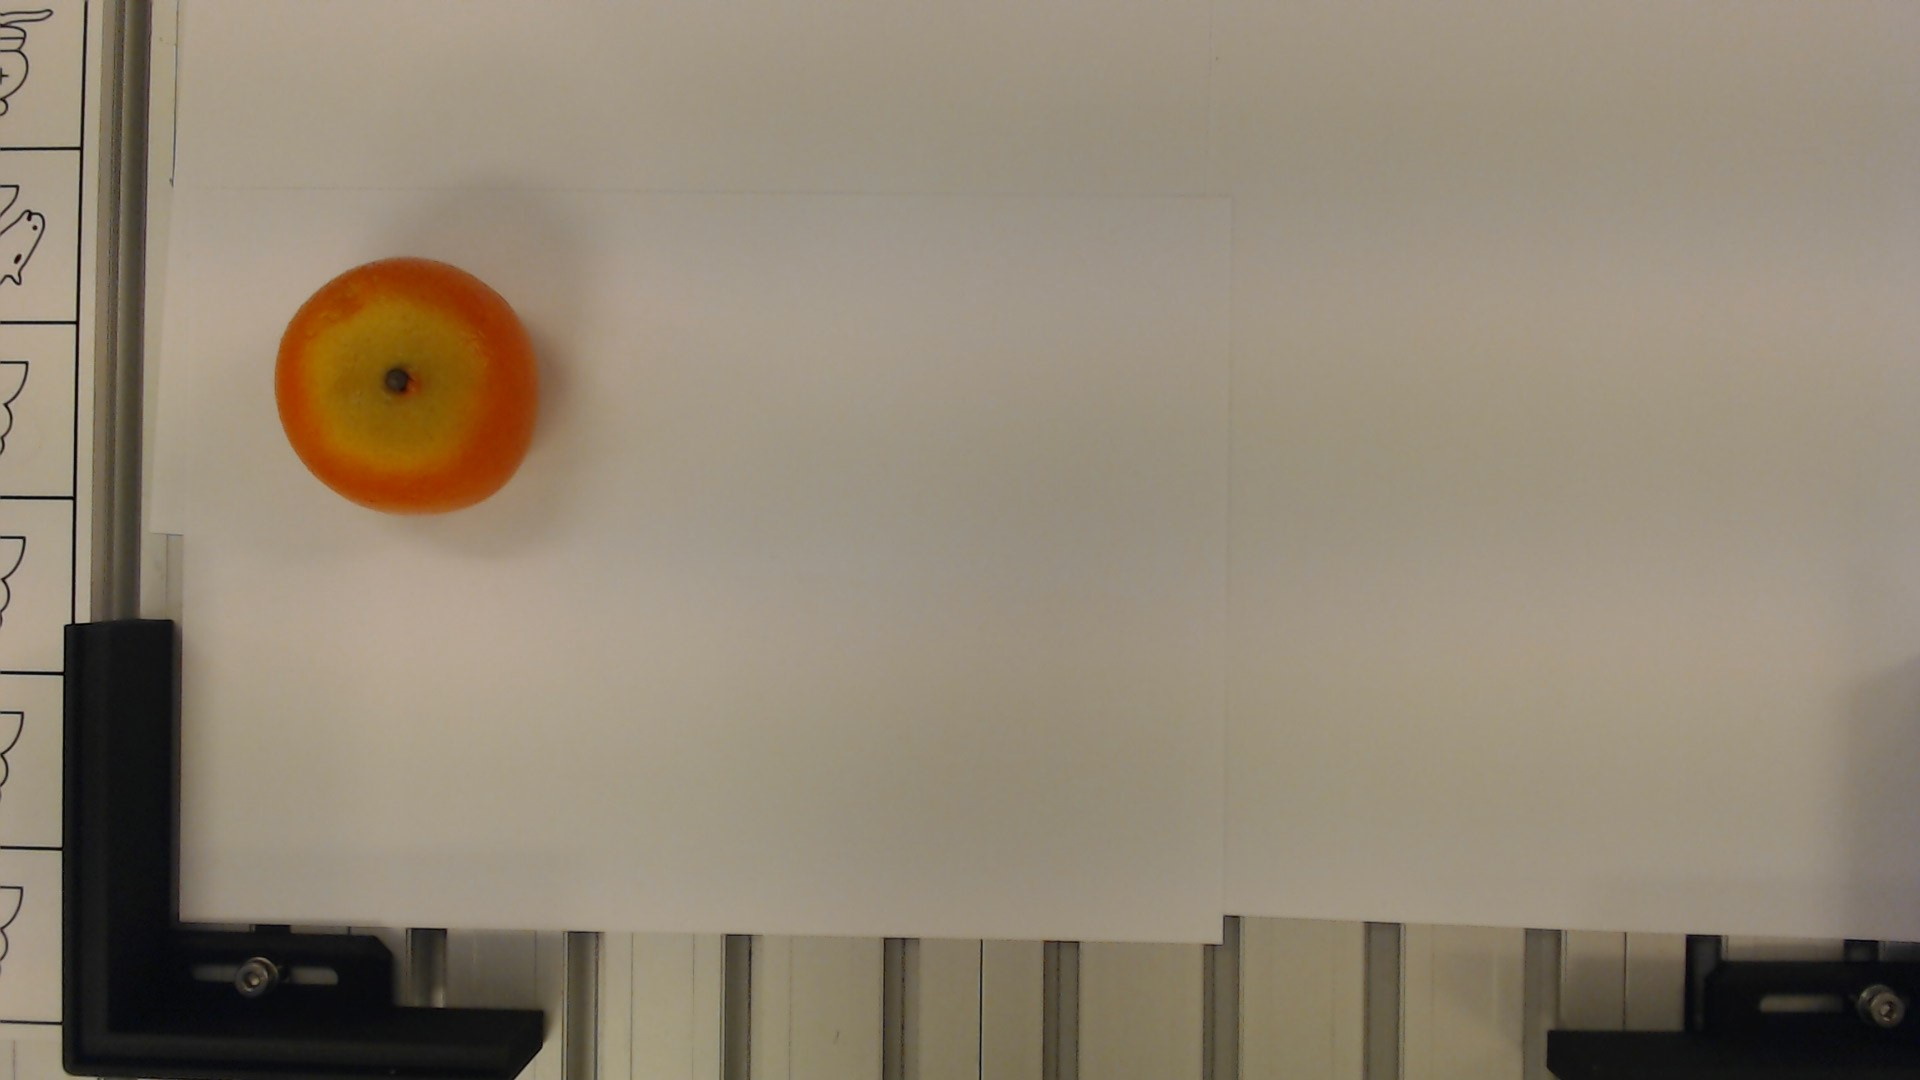Mandarin: (265, 249, 542, 518)
